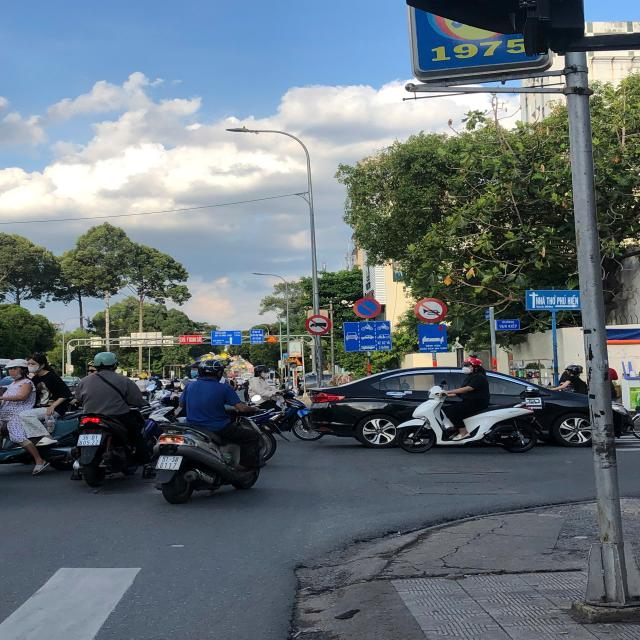Bien bao cam do xe: (350, 296, 383, 320)
Bien bao cam xe so-mi ro-mooc: (301, 313, 337, 337)
